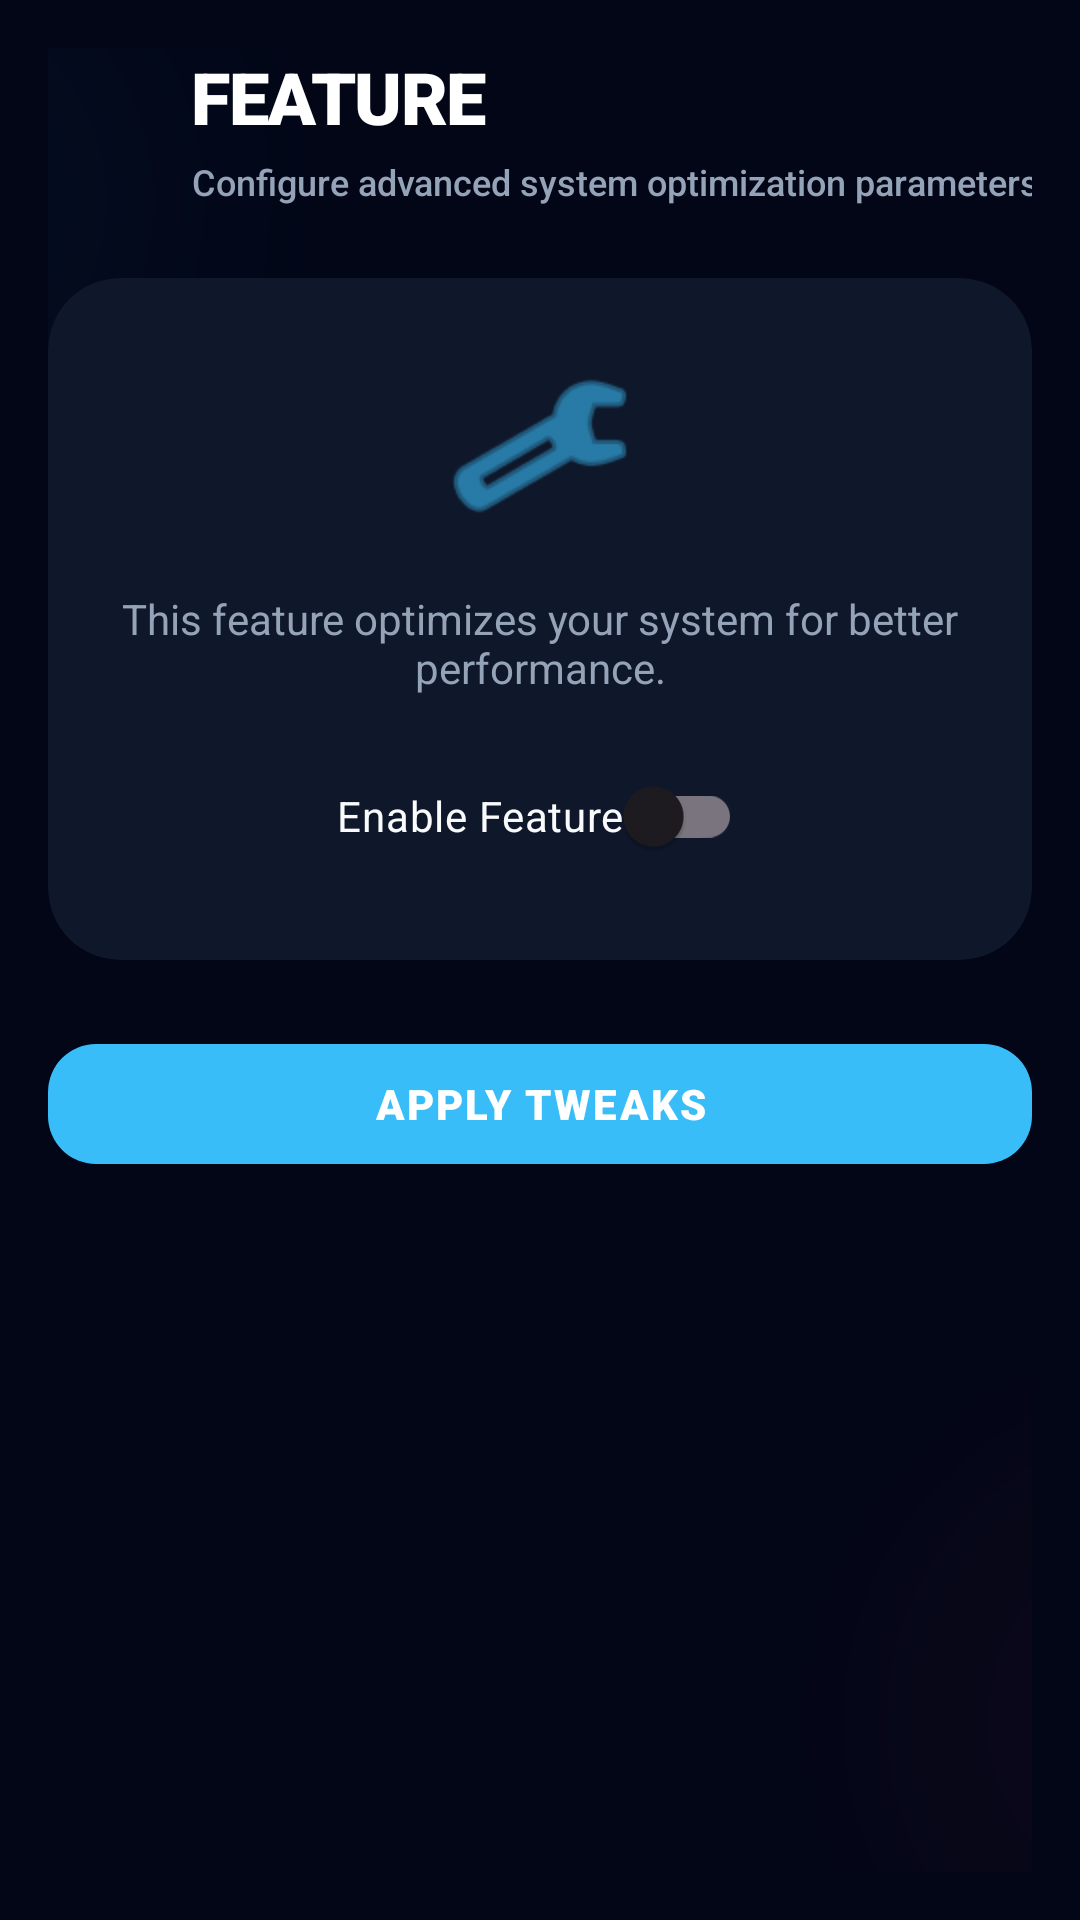

Named icons in this screenshot (1080 × 1920) and their bounding boxes, (x1, y1, x2, y2):
preferences: (453, 380, 627, 512)
